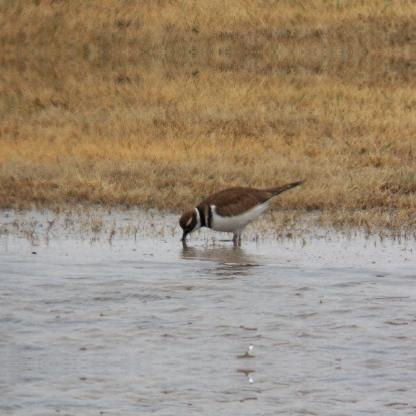Bird: (172, 178, 308, 246)
